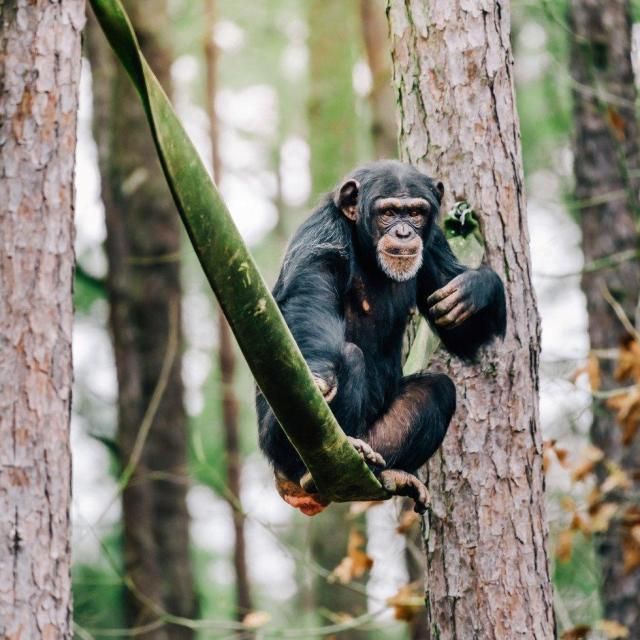Chimpanzee: (225, 117, 506, 503)
